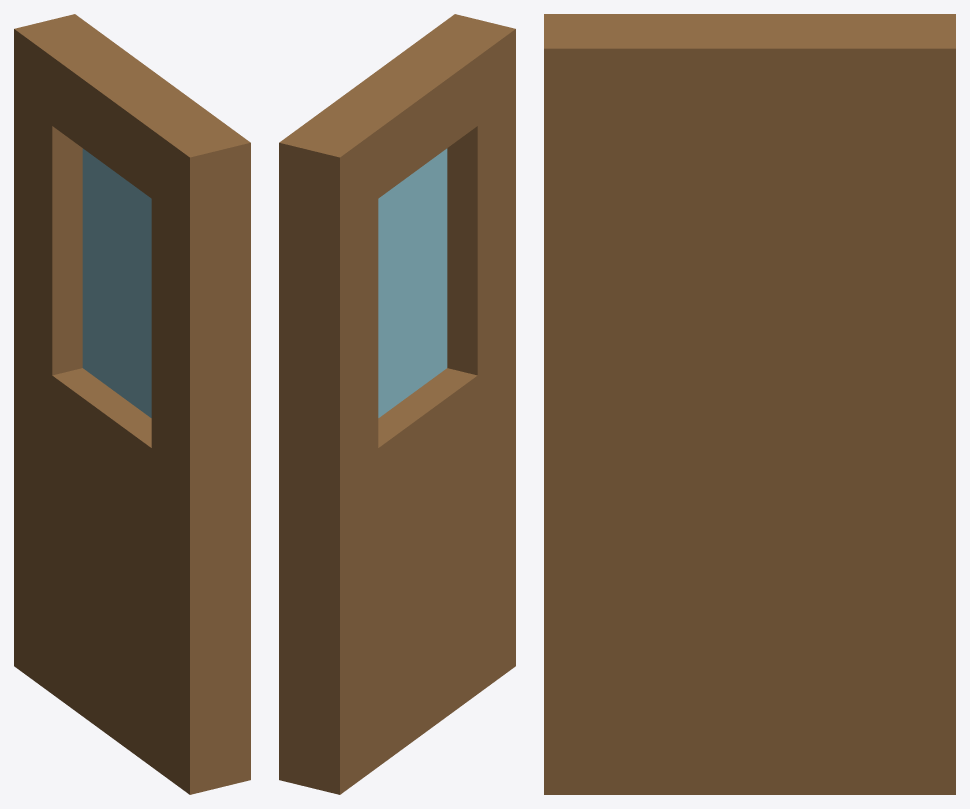
Rendered from modularBuildings_075.obj.
3 views of the same model, side by side, from view 1: azimuth 30°, elevation 25°; view 2: azimuth 150°, elevation 25°; view 3: azimuth 270°, elevation 25° (orthographic). The views are drawn at different scales.
Visible parts, largest first — view 1: Mesh1 Group1 Model; view 2: Mesh1 Group1 Model; view 3: Mesh1 Group1 Model.
Boxes of the visible parts, box(x1,y1,x2,y2) form: Mesh1 Group1 Model: box(14, 14, 250, 794); Mesh1 Group1 Model: box(279, 14, 515, 794); Mesh1 Group1 Model: box(544, 14, 955, 794).
Size of the model in its own units: 0.05 by 0.5 by 0.25.
